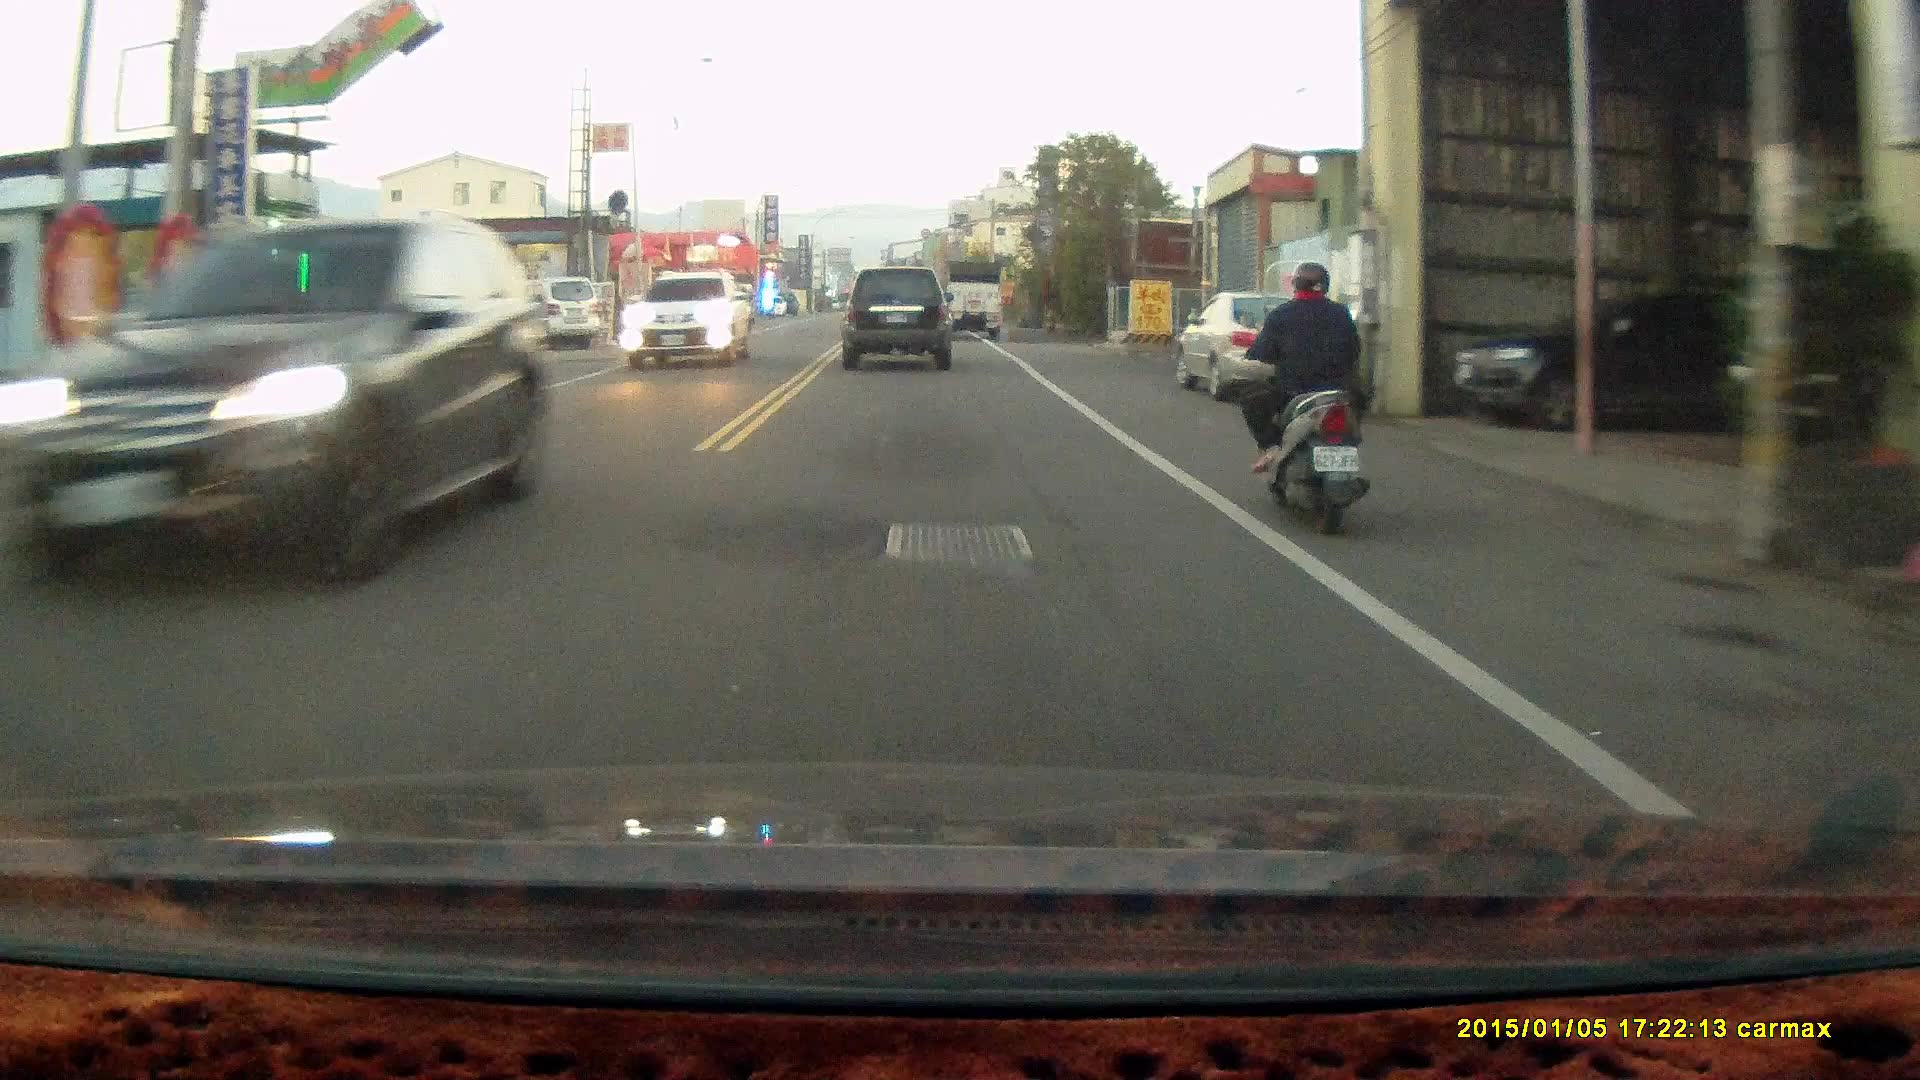rider: (1228, 257, 1369, 534)
vehicle: (40, 206, 541, 602), (1455, 294, 1767, 431), (1176, 281, 1357, 399), (619, 273, 755, 375), (842, 268, 959, 371), (493, 275, 598, 355), (935, 258, 1006, 339)
